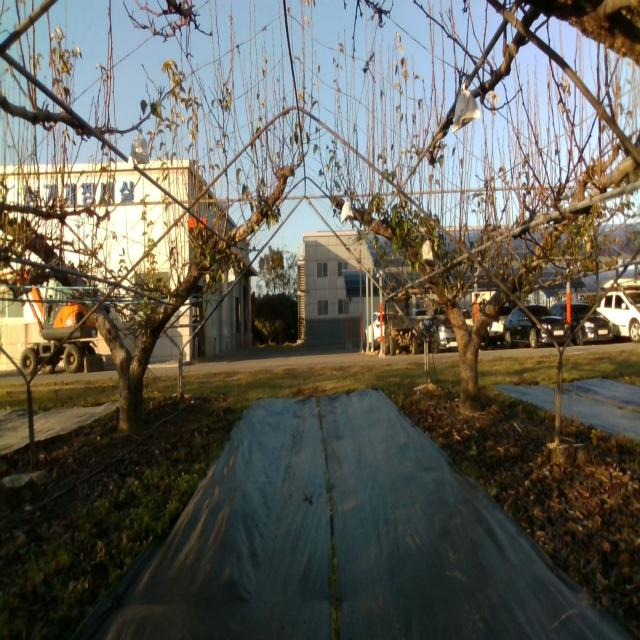pearbags: (450, 83, 482, 134), (128, 127, 150, 167), (340, 201, 354, 224), (422, 238, 433, 262)
